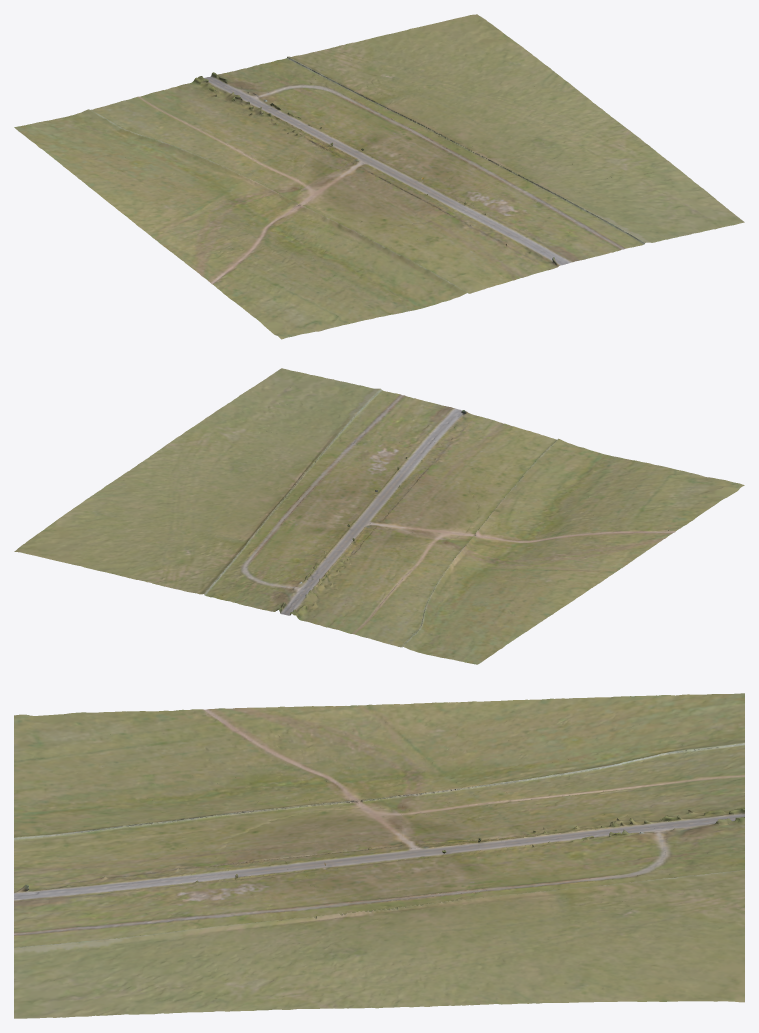
The model's file is grassland_and_highway.glb.
3 renders of one model, top to bottom at view 1: azimuth 30°, elevation 25°; view 2: azimuth 150°, elevation 25°; view 3: azimuth 270°, elevation 25°, orthographic. The views are drawn at different scales.
Parts seen in each view (by area): view 1: Object_2, Object_3, Object_4; view 2: Object_2, Object_3, Object_4; view 3: Object_2, Object_3, Object_4.
Boxes of the visible parts, x1,y1,x2,y2 form: Object_2: (14,14,744,339); Object_3: (27,22,716,330); Object_4: (14,28,741,291); Object_2: (14,368,744,664); Object_3: (42,383,722,658); Object_4: (56,369,675,653); Object_2: (14,693,744,1018); Object_3: (14,698,744,1012); Object_4: (14,693,744,1017).
Size of the model in its own units: 500 by 26.92 by 500.
Materials: 1 (1 with a texture image).
